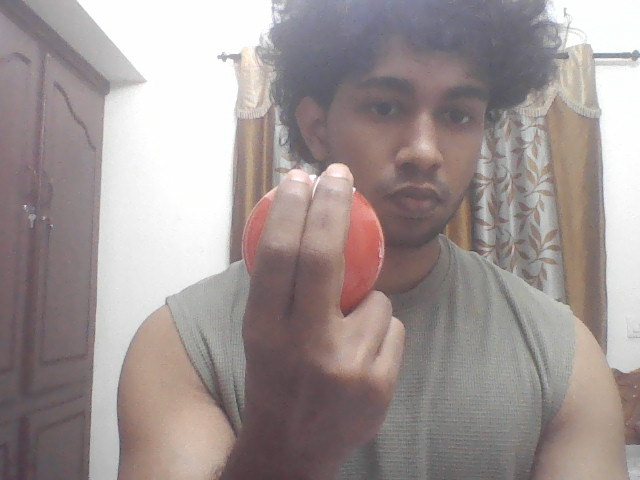cricket_ball: (236, 168, 388, 310)
